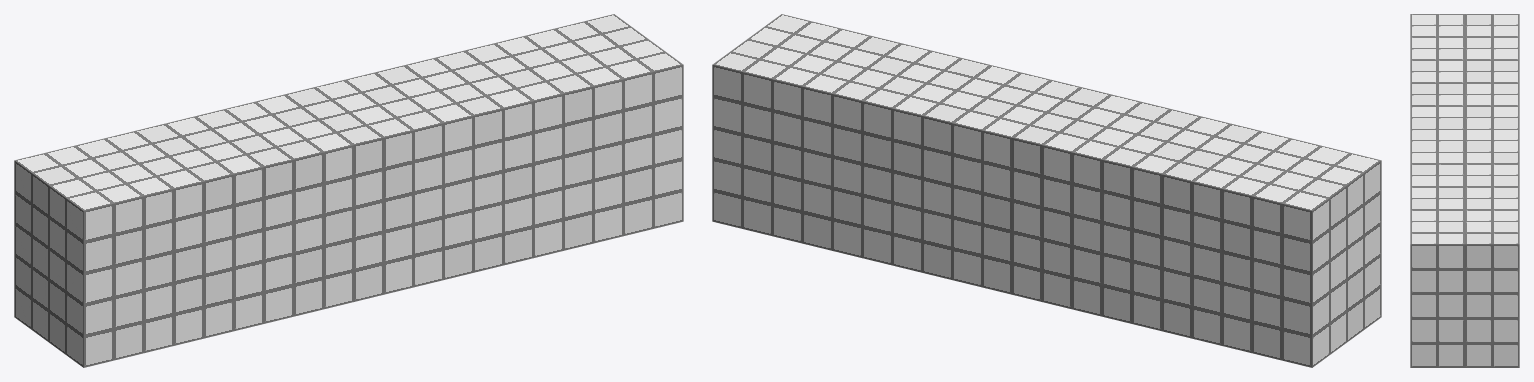
The model's file is beam_segment.glb.
The picture shows the model from 3 angles, left to right: view 1: azimuth 30°, elevation 25°; view 2: azimuth 150°, elevation 25°; view 3: azimuth 270°, elevation 25°; orthographic projection. The views are drawn at different scales.
Parts seen in each view (by area): view 1: beam_segment; view 2: beam_segment; view 3: beam_segment.
Part boxes in pixels (x1,y1,x2,y2): beam_segment: (14, 14, 683, 367); beam_segment: (712, 14, 1381, 367); beam_segment: (1410, 14, 1519, 367).
Size of the model in its own units: 1 by 0.25 by 0.2.
Materials: 2 (2 with a texture image).
